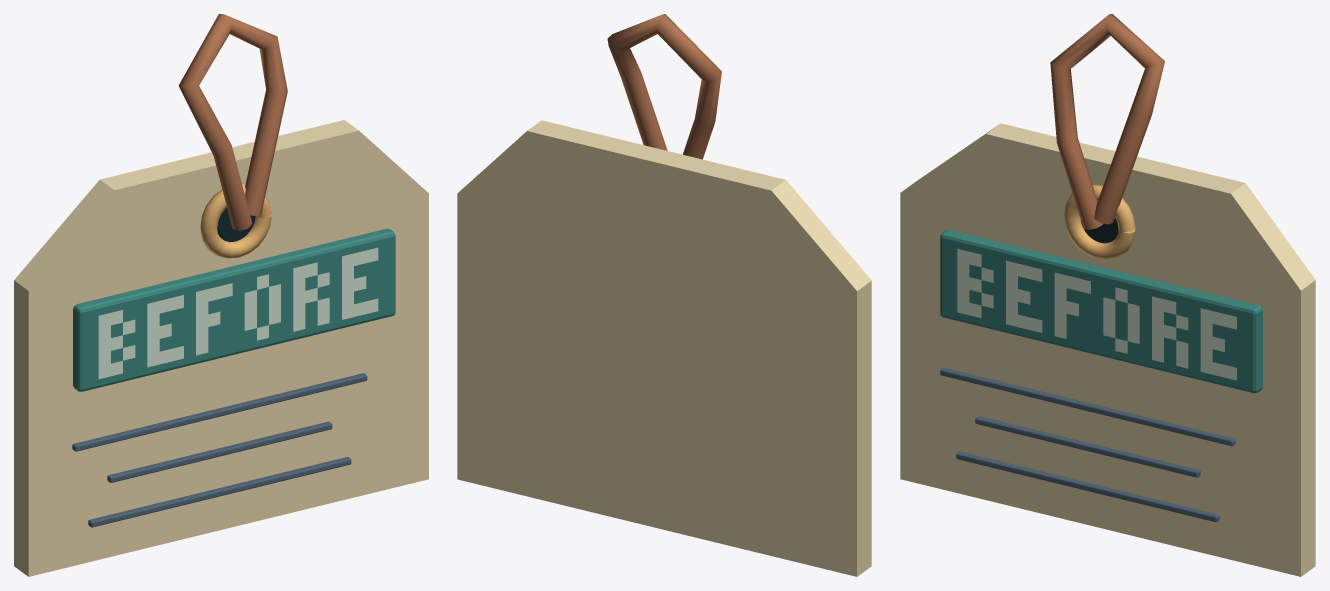
The picture shows the model from 3 angles, left to right: view 1: azimuth 30°, elevation 25°; view 2: azimuth 150°, elevation 25°; view 3: azimuth 330°, elevation 25°; orthographic projection.
Visible parts, largest first — view 1: PR148 enamel and hardware; view 2: PR148 enamel and hardware; view 3: PR148 enamel and hardware.
Part boxes in pixels (x1,y1,x2,y2): PR148 enamel and hardware: (14, 14, 428, 576); PR148 enamel and hardware: (457, 14, 871, 576); PR148 enamel and hardware: (900, 14, 1315, 576).
Bounding box in the file's own units: 0.1153 × 0.14 × 0.0168.
